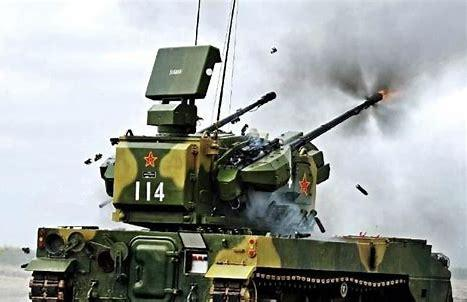MIL_SPG: (25, 46, 452, 301)
